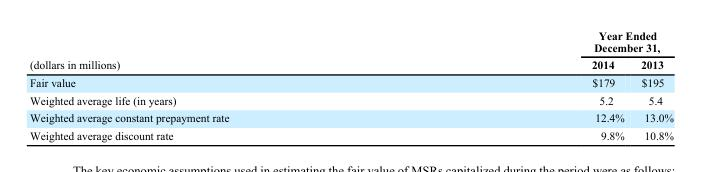table: (29, 29, 672, 141)
table column: (29, 29, 409, 141), (409, 29, 631, 141), (631, 29, 672, 141)
table column header: (29, 29, 672, 73)
table row: (29, 29, 672, 55), (29, 55, 672, 73), (29, 90, 672, 108), (29, 108, 672, 126), (29, 73, 672, 90), (29, 126, 672, 141)
table spanning cell: (29, 29, 409, 73), (409, 29, 672, 55)
